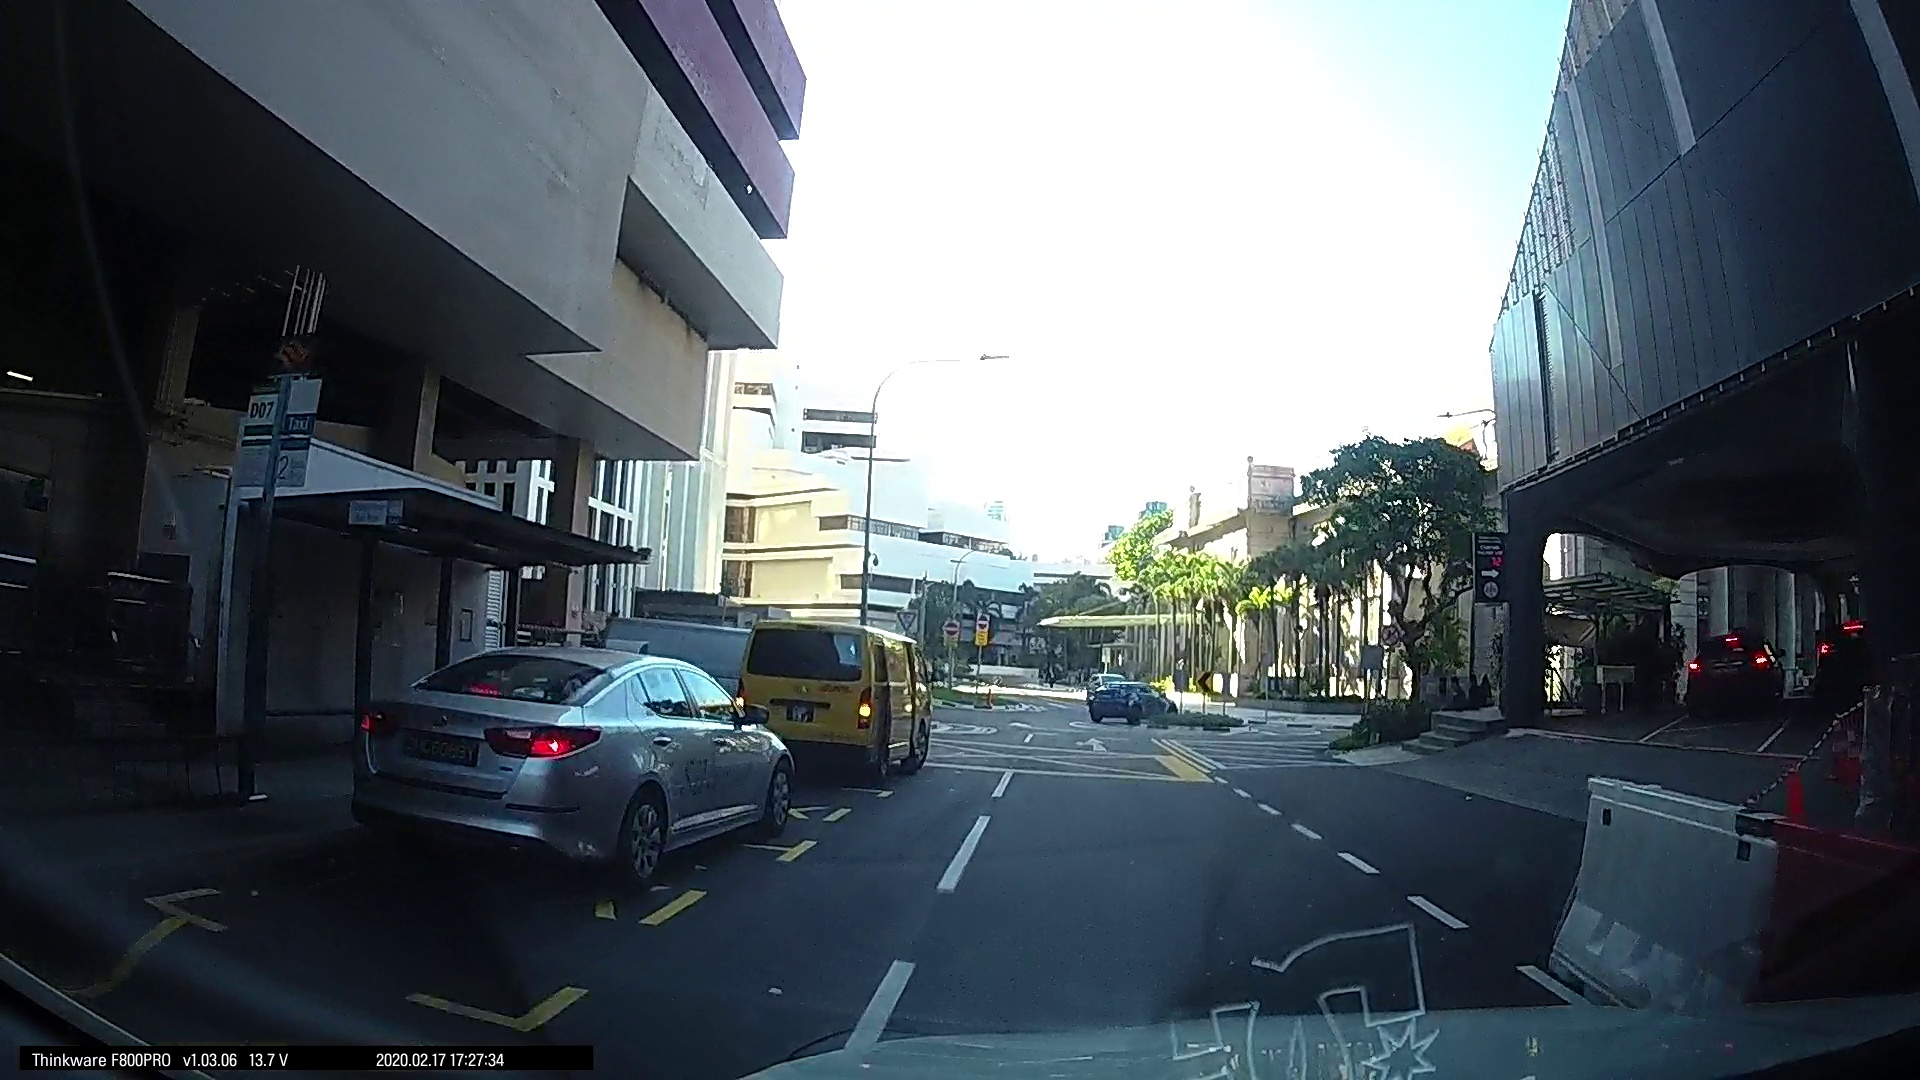Heavy Vehicle: (28, 405, 599, 911)
Light Vehicle: (1749, 694, 1876, 779), (1203, 637, 1292, 725), (919, 640, 977, 694), (1156, 650, 1205, 698), (1023, 644, 1058, 680)
